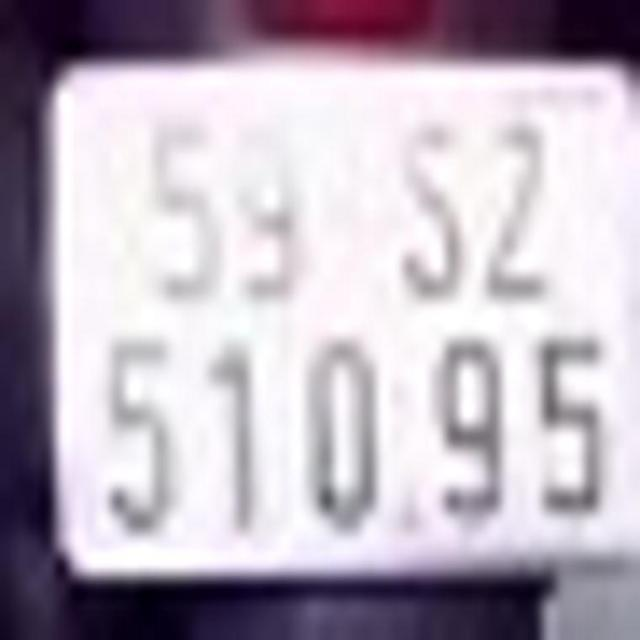0: (305, 321, 384, 530)
1: (202, 333, 264, 528)
2: (474, 107, 553, 303)
5: (102, 338, 184, 540), (525, 318, 607, 516), (143, 117, 229, 296)
9: (434, 326, 505, 524), (238, 109, 305, 298)
S: (398, 121, 464, 297)
